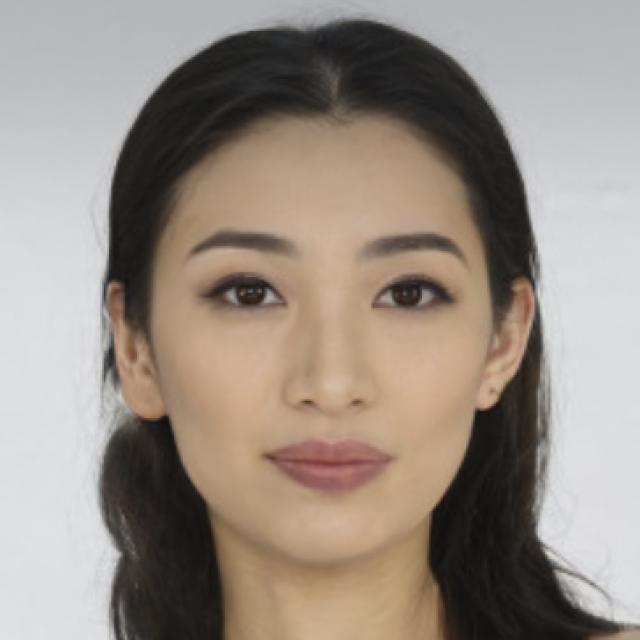natural: (111, 16, 538, 547)
